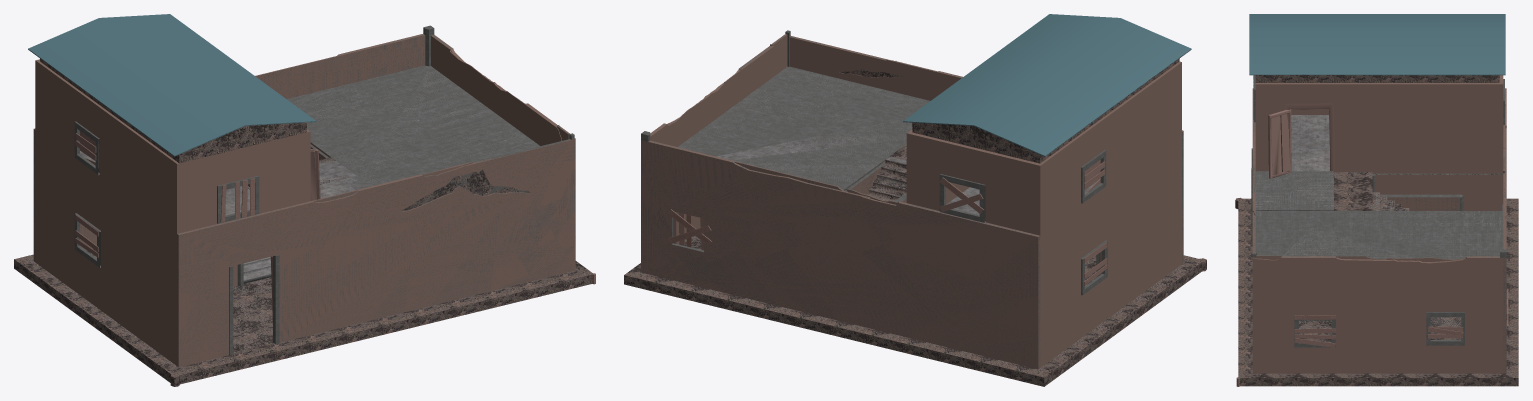
Rendered from Building 2.fbx.
3 views of the same model, side by side, from view 1: azimuth 30°, elevation 25°; view 2: azimuth 150°, elevation 25°; view 3: azimuth 270°, elevation 25° (orthographic). The views are drawn at different scales.
Parts seen in each view (by area): view 1: Group1; view 2: Group1; view 3: Group1.
Part boxes in pixels (left/top/right/bottom): Group1: left=14, top=14, right=595, bottom=386; Group1: left=624, top=14, right=1206, bottom=386; Group1: left=1235, top=14, right=1518, bottom=386.
Size of the model in its own units: 588 by 314 by 388.
